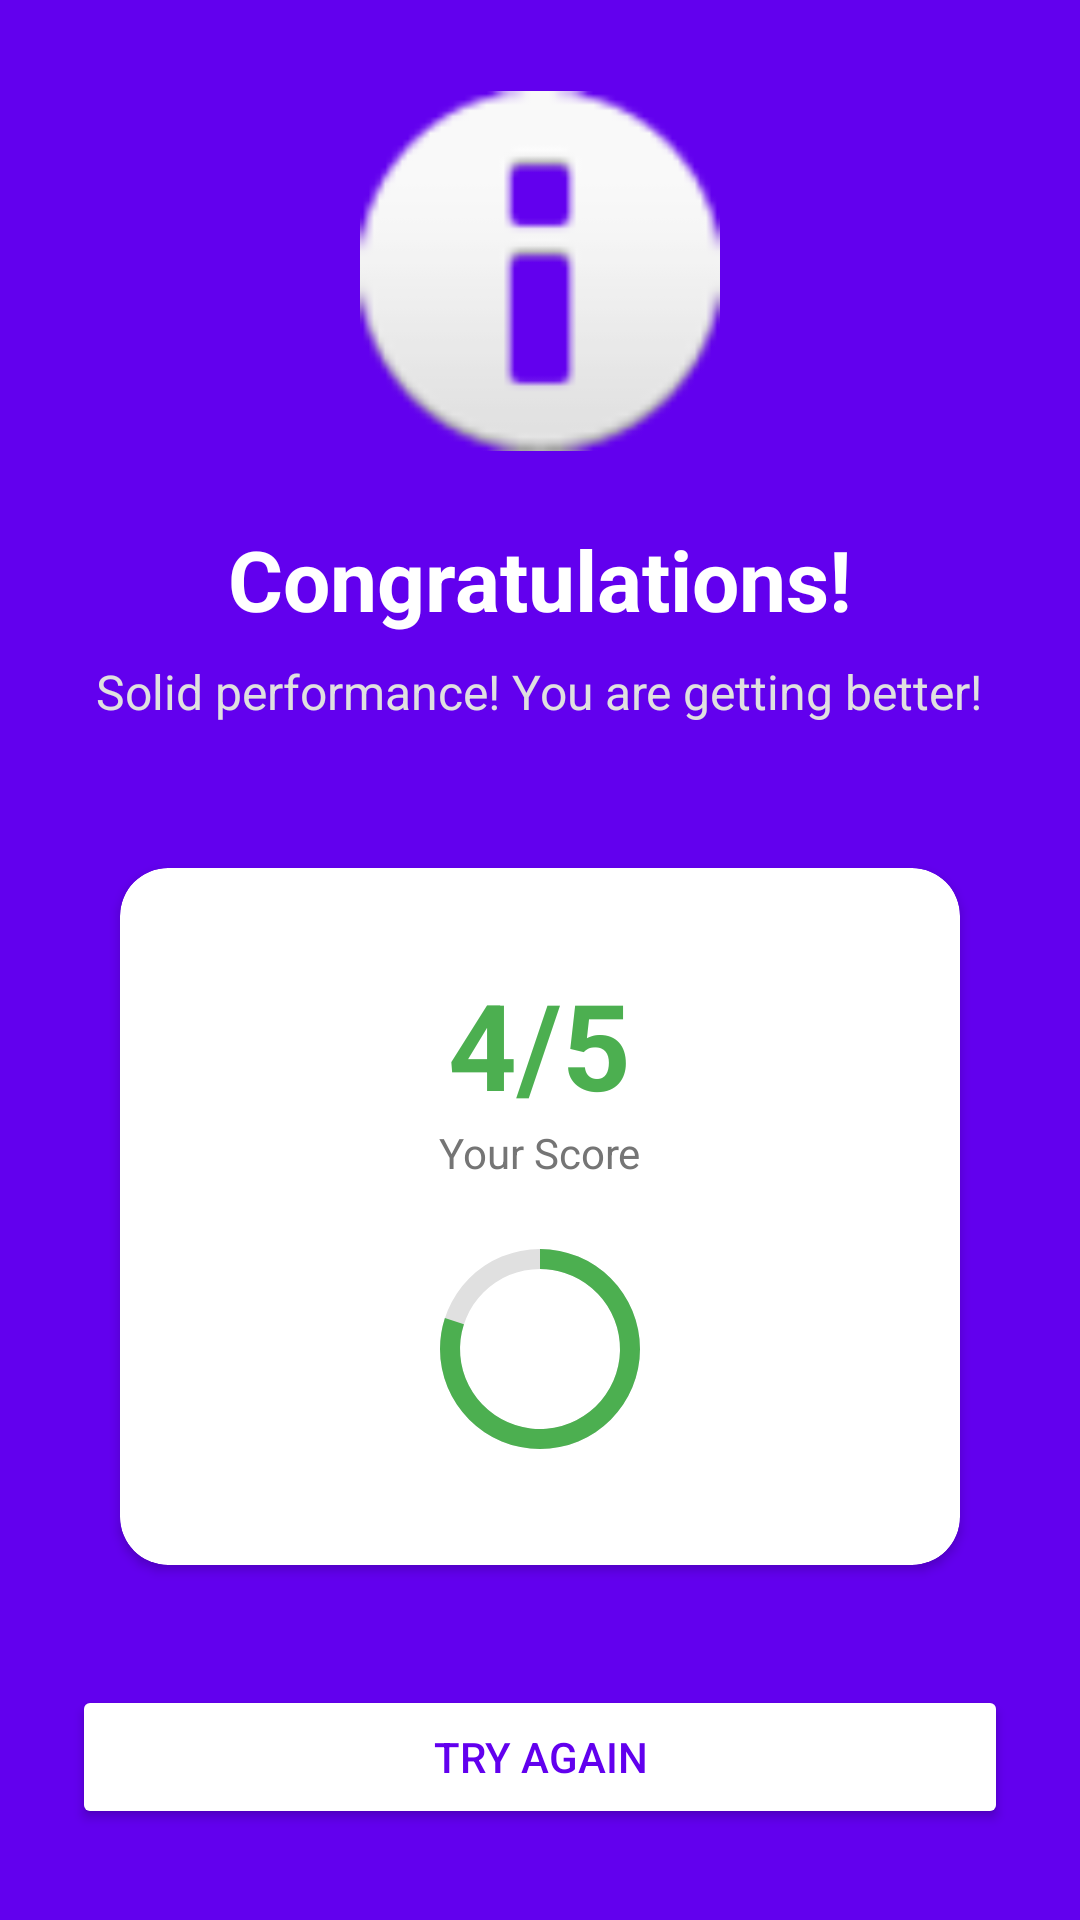

Icon bounding boxes for this 1080 x 1920 phone screenshot, format (x1, y1, x2, y2):
info: (360, 91, 720, 451)
